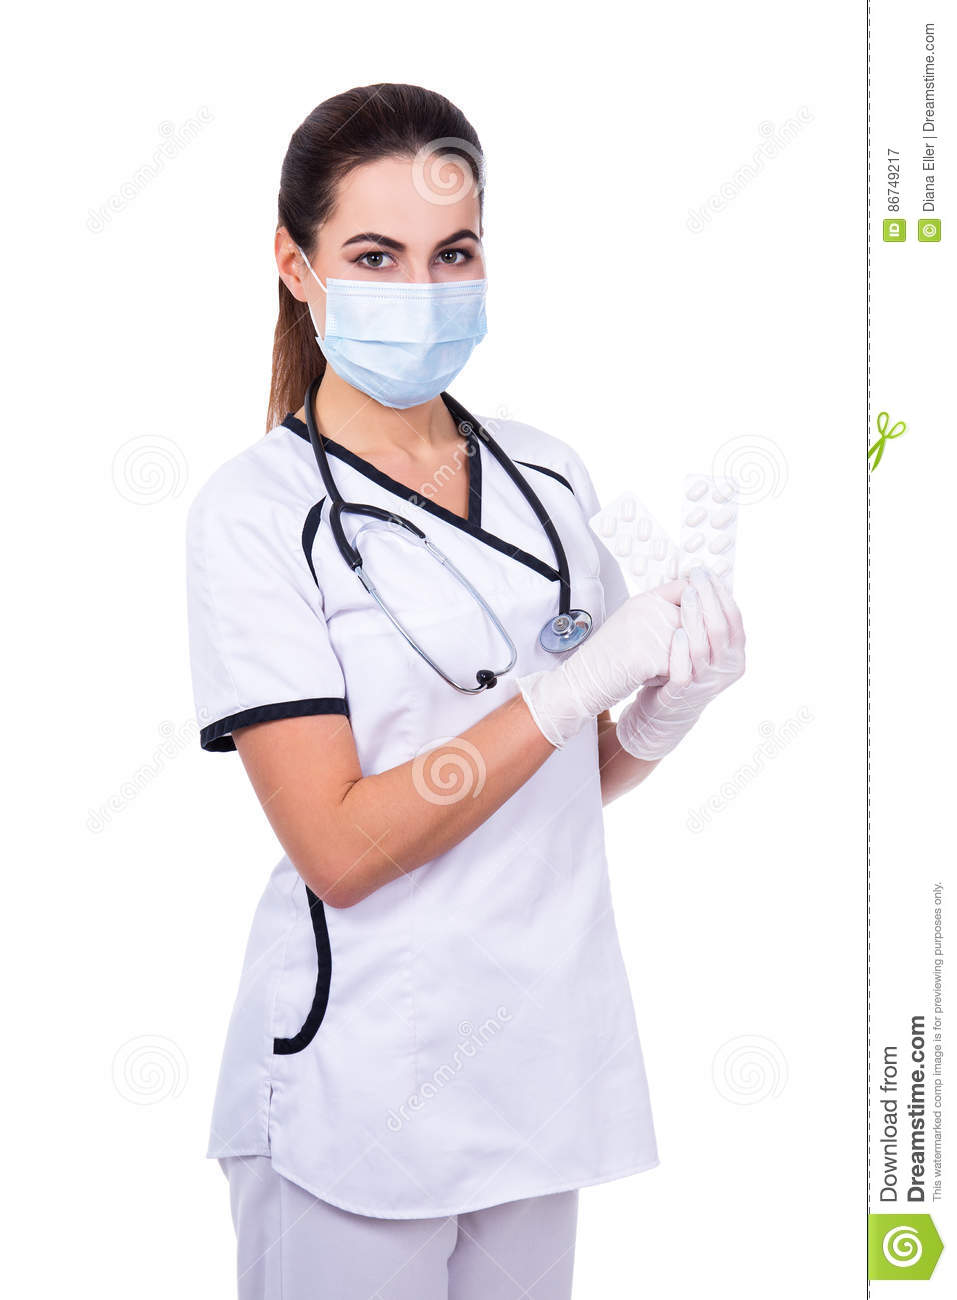mask: (324, 280, 490, 414)
